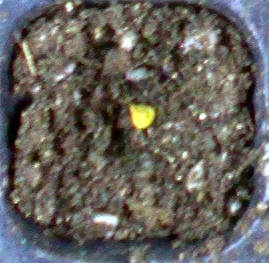pepper seed: (48, 37, 206, 168)
